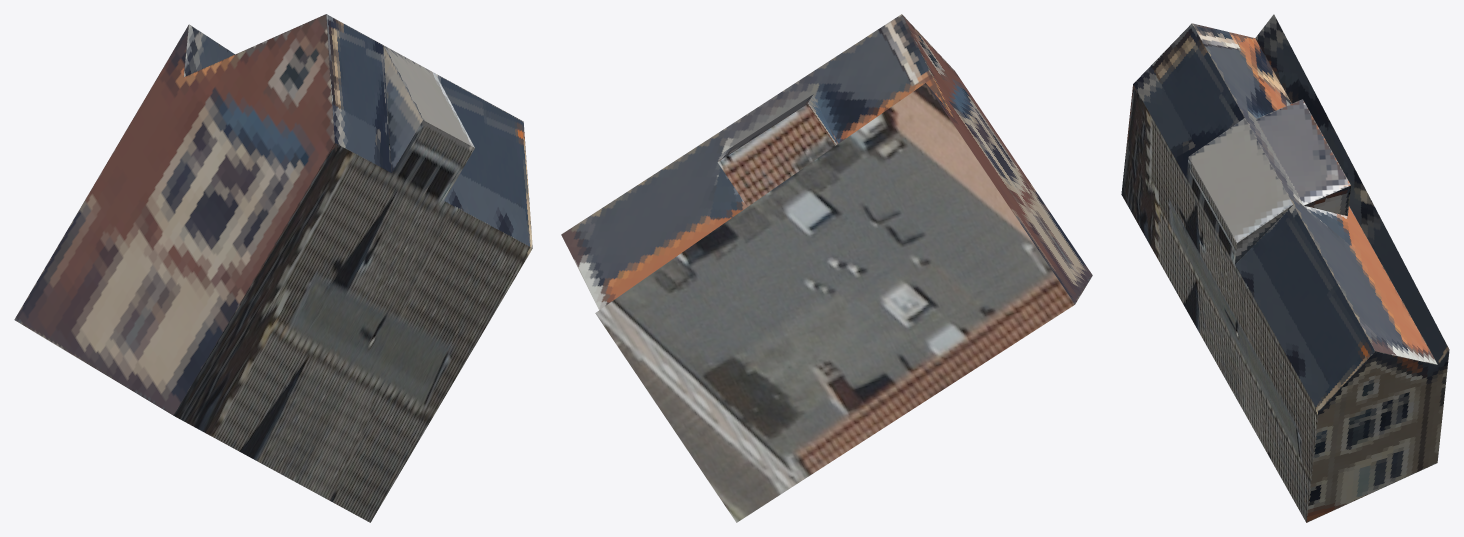
3 views of the same model, side by side, from view 1: azimuth 30°, elevation 25°; view 2: azimuth 150°, elevation 25°; view 3: azimuth 270°, elevation 25° (orthographic). The views are drawn at different scales.
Parts seen in each view (by area): view 1: BAG_0599100000656924 (×3); view 2: BAG_0599100000656924 (×2); view 3: BAG_0599100000656924 (×4).
Boxes of the visible parts, <box> form: BAG_0599100000656924 (×3): <box>14,14,532,522</box>; BAG_0599100000656924 (×2): <box>561,14,1092,522</box>; BAG_0599100000656924 (×4): <box>1121,14,1449,522</box>.
Bounding box in the file's own units: 15.82 × 15.34 × 10.02.
Materials: 4 (4 with a texture image).
